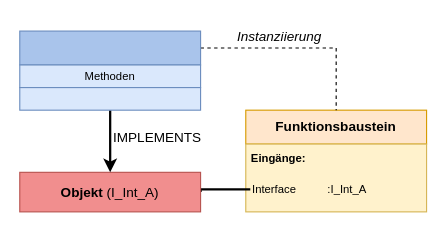
The diagram is 446 pixels wide and 232 high, and some of its shapes have lost their labels. Each missing label, with the box of its shape:
Eigenschaften: (19, 86, 201, 110)
Interface: I_Int_A: (19, 30, 201, 65)
